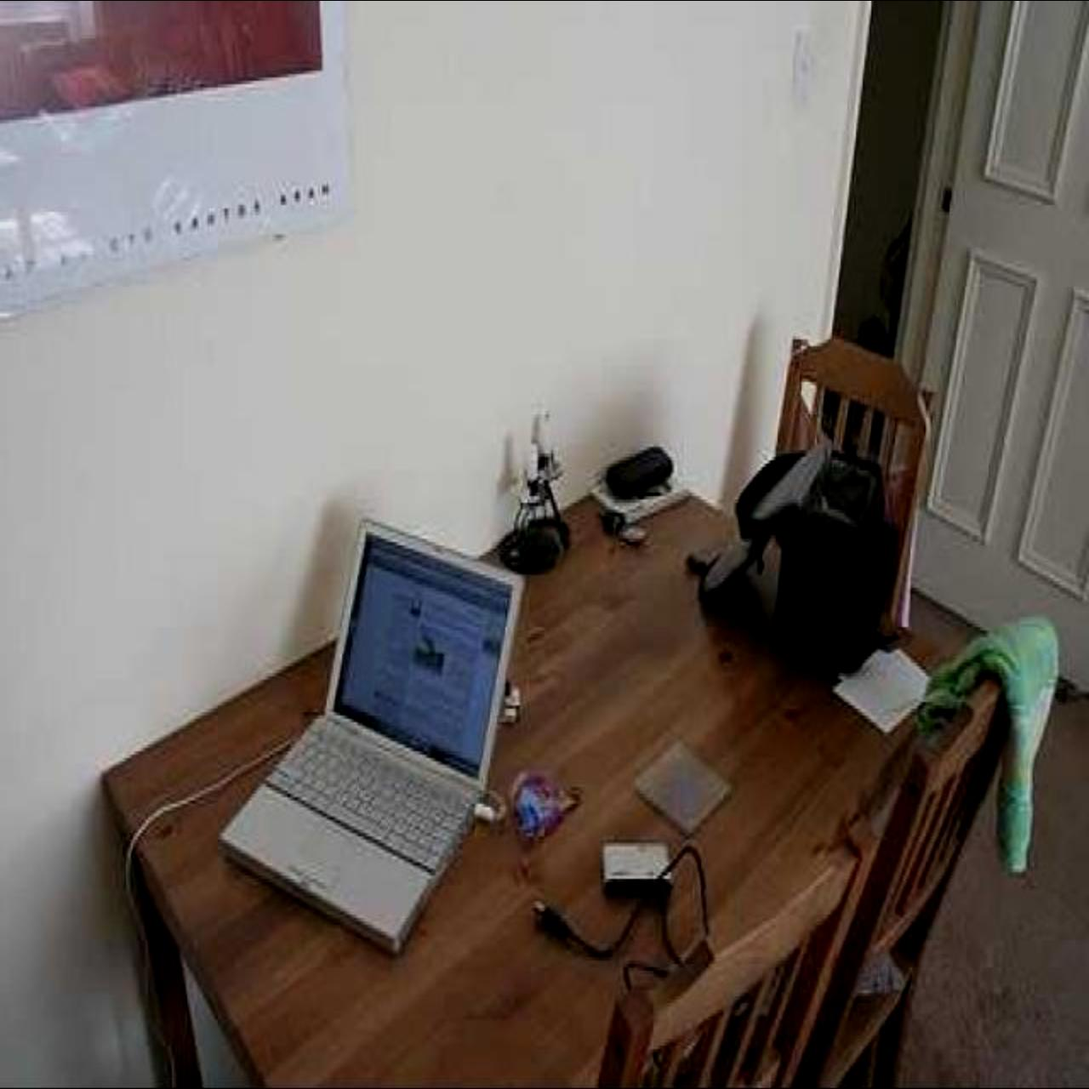laptop: (223, 529, 526, 951)
